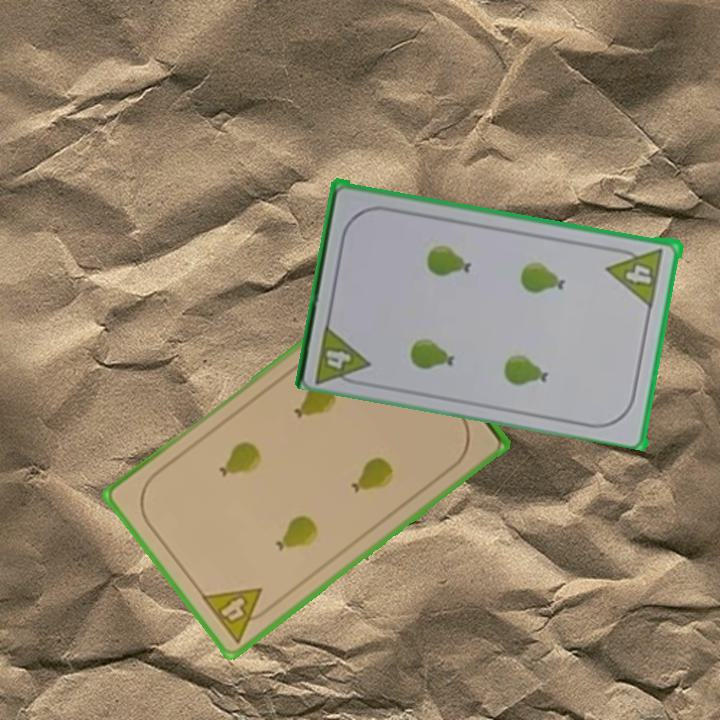4p: (197, 584, 277, 646), (311, 318, 374, 389), (605, 243, 667, 309)
